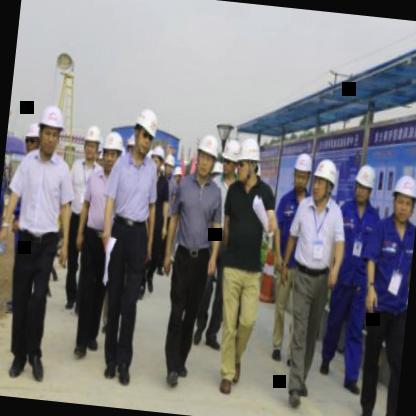helmet: (32, 98, 69, 156), (192, 125, 222, 183), (128, 106, 160, 160), (386, 169, 416, 225), (231, 137, 263, 188), (309, 156, 339, 204), (98, 122, 126, 172), (350, 160, 378, 207), (80, 118, 104, 166), (289, 150, 314, 193), (19, 117, 42, 163), (219, 133, 239, 181), (148, 142, 164, 172), (160, 150, 176, 178)
